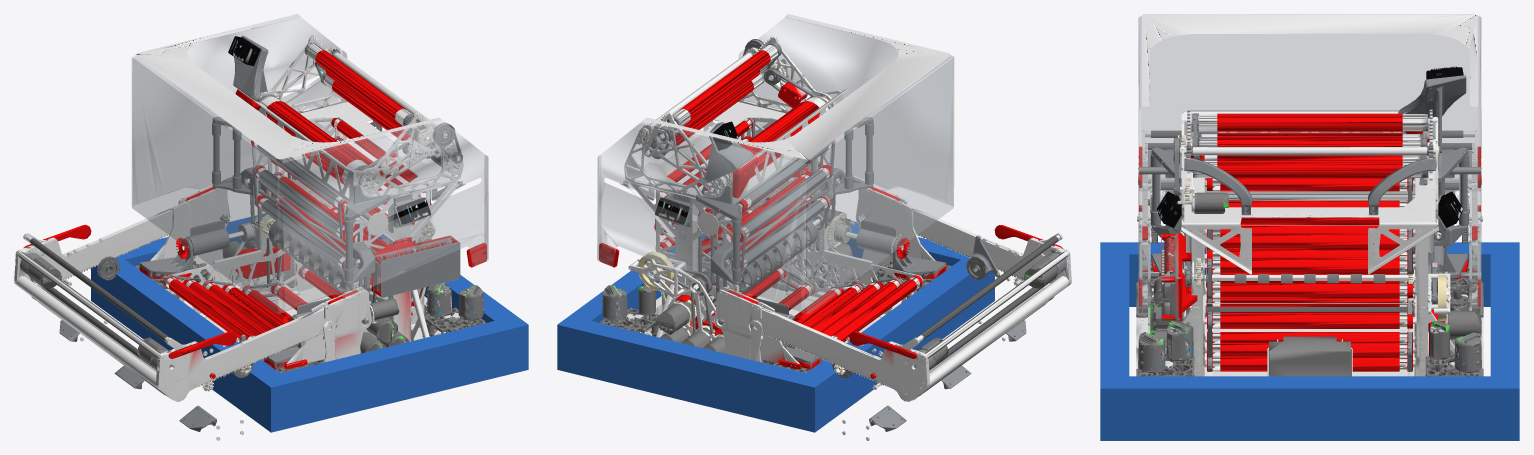
File: robot.glb
The picture shows the model from 3 angles, left to right: view 1: azimuth 30°, elevation 25°; view 2: azimuth 150°, elevation 25°; view 3: azimuth 270°, elevation 25°; orthographic projection. The views are drawn at different scales.
Visible parts, largest first — view 1: chassis-clear, chassis-cad, chassis-bumper, intake-cad, hood-cad, shooter-drum-cad, hood-roller-2-cad, feeder-roller-2619--118-cad, feeder-roller-3266-134-cad, feeder-roller-4134-195-cad, feeder-roller-1668-2857-cad, hood-roller-0-cad (+7 smaller); view 2: chassis-clear, chassis-cad, chassis-bumper, intake-cad, hood-cad, hood-roller-2-cad, feeder-roller-2619--118-cad, shooter-drum-cad, feeder-roller-4134-195-cad, feeder-roller-3266-134-cad, feeder-roller-1668-2857-cad, hood-roller-0-cad (+8 smaller); view 3: chassis-cad, chassis-bumper, chassis-clear, hood-cad, hood-roller-2-cad, intake-cad, hood-roller-0-cad, feeder-roller-3224--2096-cad, feeder-roller-2451--2022-cad, feeder-roller-3816--2096-cad, hood-roller-1-cad, feeder-roller-4408--2096-cad (+14 smaller).
Part boxes in pixels (x1,y1,x2,y2): chassis-clear: (132, 14, 488, 313); chassis-cad: (134, 14, 486, 373); chassis-bumper: (91, 213, 528, 432); intake-cad: (14, 189, 368, 440); hood-cad: (228, 35, 462, 196); shooter-drum-cad: (258, 97, 367, 187); hood-roller-2-cad: (304, 42, 419, 131); feeder-roller-2619--118-cad: (268, 221, 357, 292); feeder-roller-3266-134-cad: (258, 198, 345, 268); feeder-roller-4134-195-cad: (256, 167, 344, 237); feeder-roller-1668-2857-cad: (166, 277, 254, 340); hood-roller-0-cad: (320, 72, 435, 158); chassis-clear: (597, 14, 953, 313); chassis-cad: (599, 14, 951, 373); chassis-bumper: (557, 200, 994, 432); intake-cad: (717, 189, 1071, 440); hood-cad: (637, 35, 834, 198); hood-roller-2-cad: (667, 42, 781, 130); feeder-roller-2619--118-cad: (738, 221, 817, 292); shooter-drum-cad: (742, 97, 828, 178); feeder-roller-4134-195-cad: (741, 167, 829, 237); feeder-roller-3266-134-cad: (740, 198, 827, 268); feeder-roller-1668-2857-cad: (831, 277, 919, 341); hood-roller-0-cad: (650, 73, 764, 159); chassis-cad: (1136, 14, 1483, 376); chassis-bumper: (1100, 242, 1519, 440); chassis-clear: (1138, 14, 1481, 307); hood-cad: (1173, 66, 1466, 215); hood-roller-2-cad: (1190, 113, 1429, 131); intake-cad: (1137, 130, 1482, 270); hood-roller-0-cad: (1190, 160, 1429, 178); feeder-roller-3224--2096-cad: (1212, 283, 1407, 298); feeder-roller-2451--2022-cad: (1212, 314, 1407, 328); feeder-roller-3816--2096-cad: (1212, 259, 1407, 273); hood-roller-1-cad: (1186, 136, 1433, 146); feeder-roller-4408--2096-cad: (1212, 234, 1407, 249).
Bounding box in the file's own units: 1.04 × 0.7619 × 0.92.
